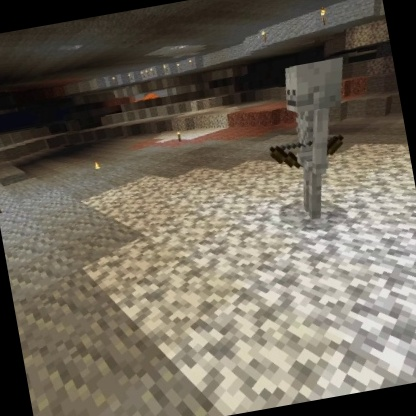skeleton: (252, 52, 375, 229)
